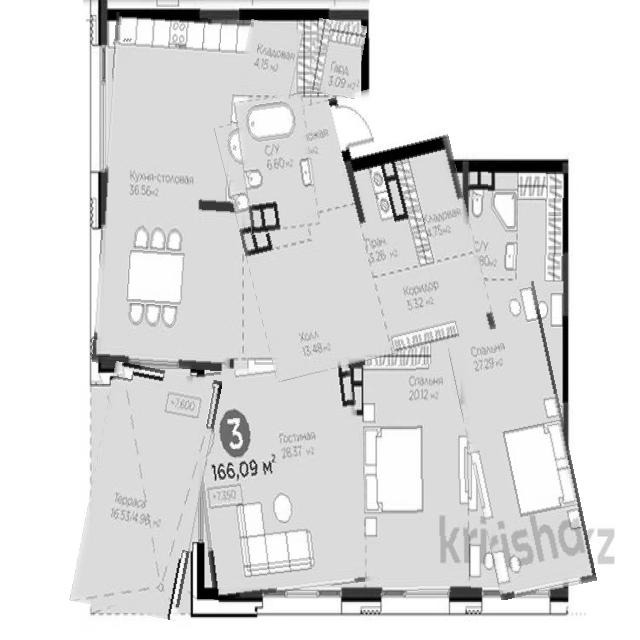balcony: (80, 365, 211, 617)
bathroom: (238, 94, 316, 233), (468, 172, 565, 281)
hallway: (247, 99, 496, 380)
kitchen: (98, 14, 248, 369)
living_room: (192, 361, 371, 596), (452, 276, 582, 597), (363, 365, 471, 593)
other: (240, 22, 302, 97), (309, 20, 364, 98)
